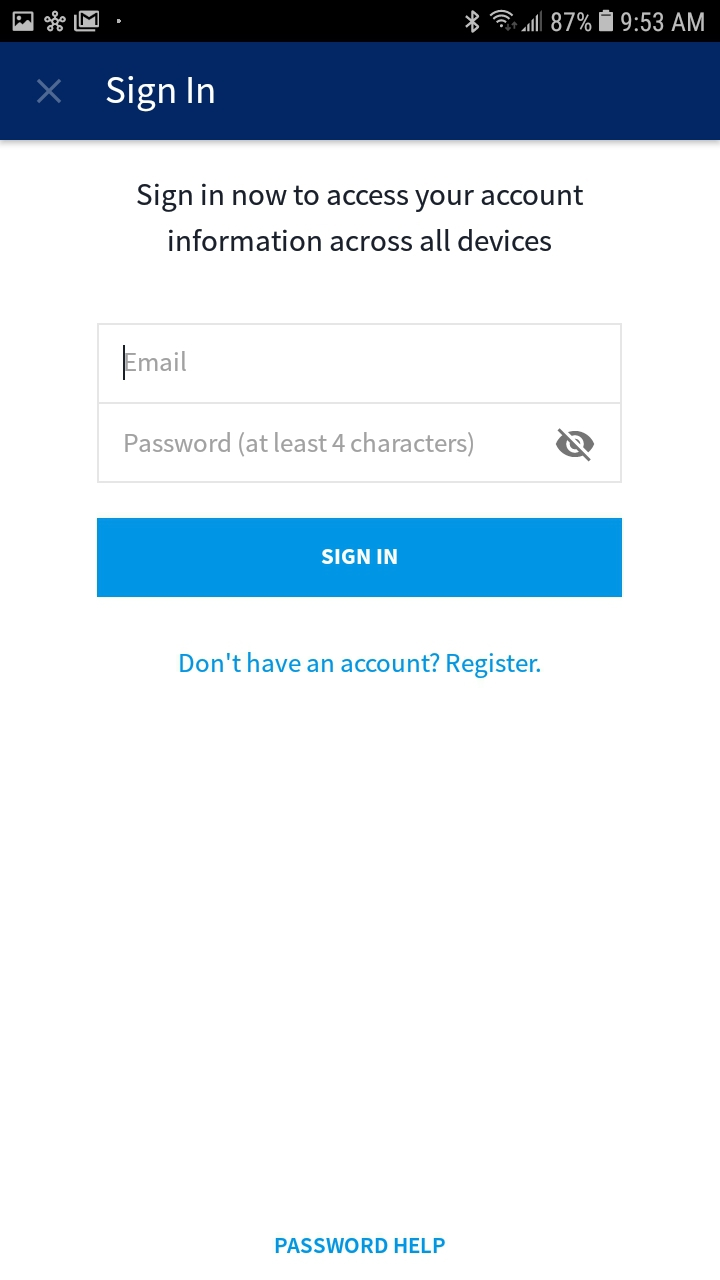EditText: (98, 403, 622, 484), (98, 324, 622, 405)
Icon: (556, 429, 595, 463), (37, 80, 62, 105)
Text: (138, 183, 584, 252), (180, 652, 541, 679), (126, 431, 474, 458), (106, 76, 215, 113), (276, 1238, 445, 1253), (125, 351, 187, 372)
TextButton: (97, 518, 623, 598)
UpperTaskBar: (2, 1, 720, 43)
